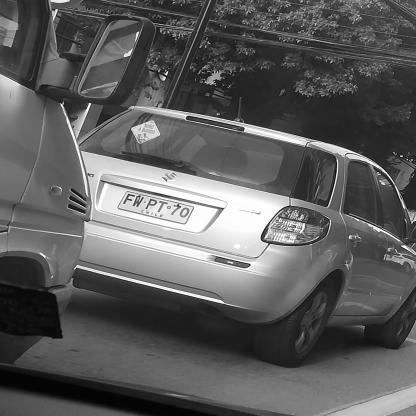Patente: (115, 188, 197, 226)
